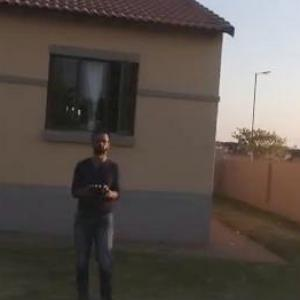follow: (64, 121, 133, 299)
